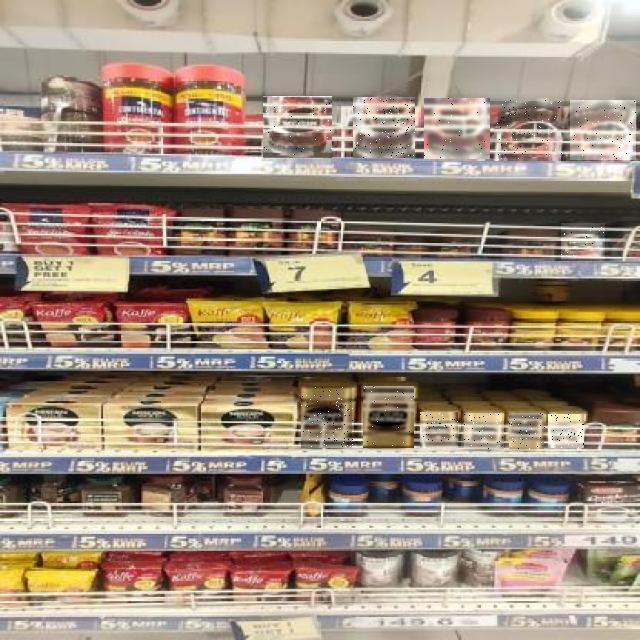Coffee: (263, 96, 332, 158), (496, 98, 562, 160), (424, 98, 490, 159), (570, 100, 636, 160), (353, 97, 415, 158), (302, 387, 354, 449), (363, 386, 414, 448), (562, 223, 608, 259), (420, 412, 458, 450), (464, 413, 504, 449), (510, 413, 546, 449), (548, 414, 584, 448)
